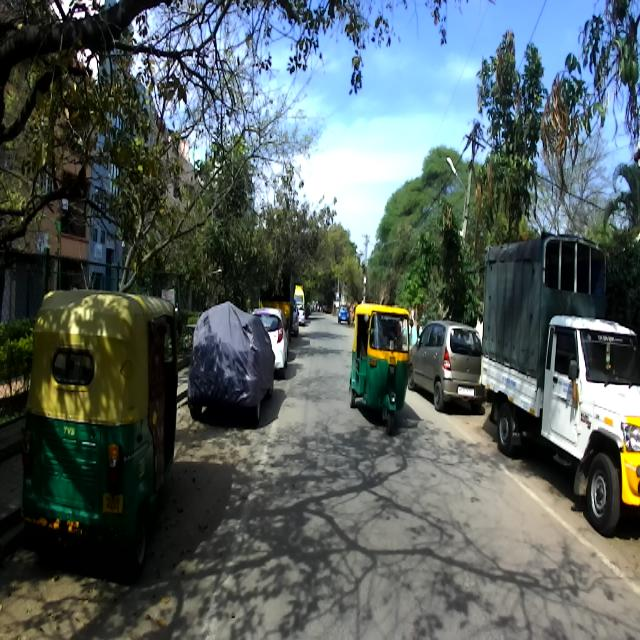auto ahead at: (28, 281, 183, 574), (352, 301, 413, 430)
car ahead at: (477, 233, 640, 530), (195, 294, 278, 445)
